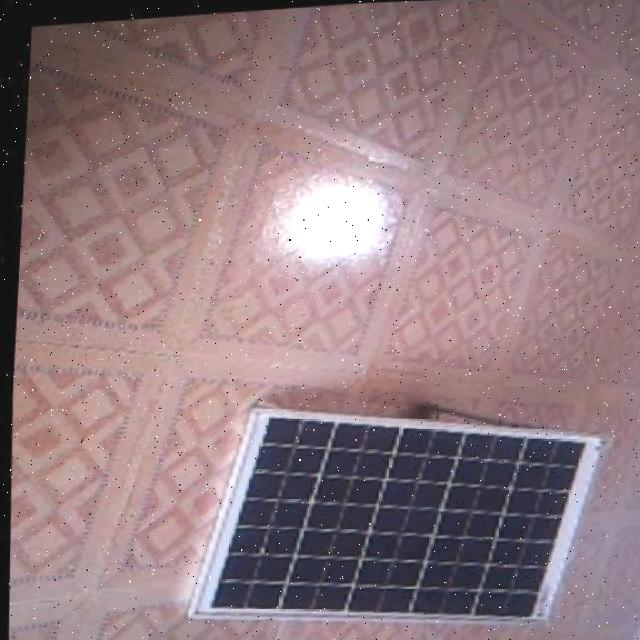Normal Solar Panel: (181, 383, 610, 640)
